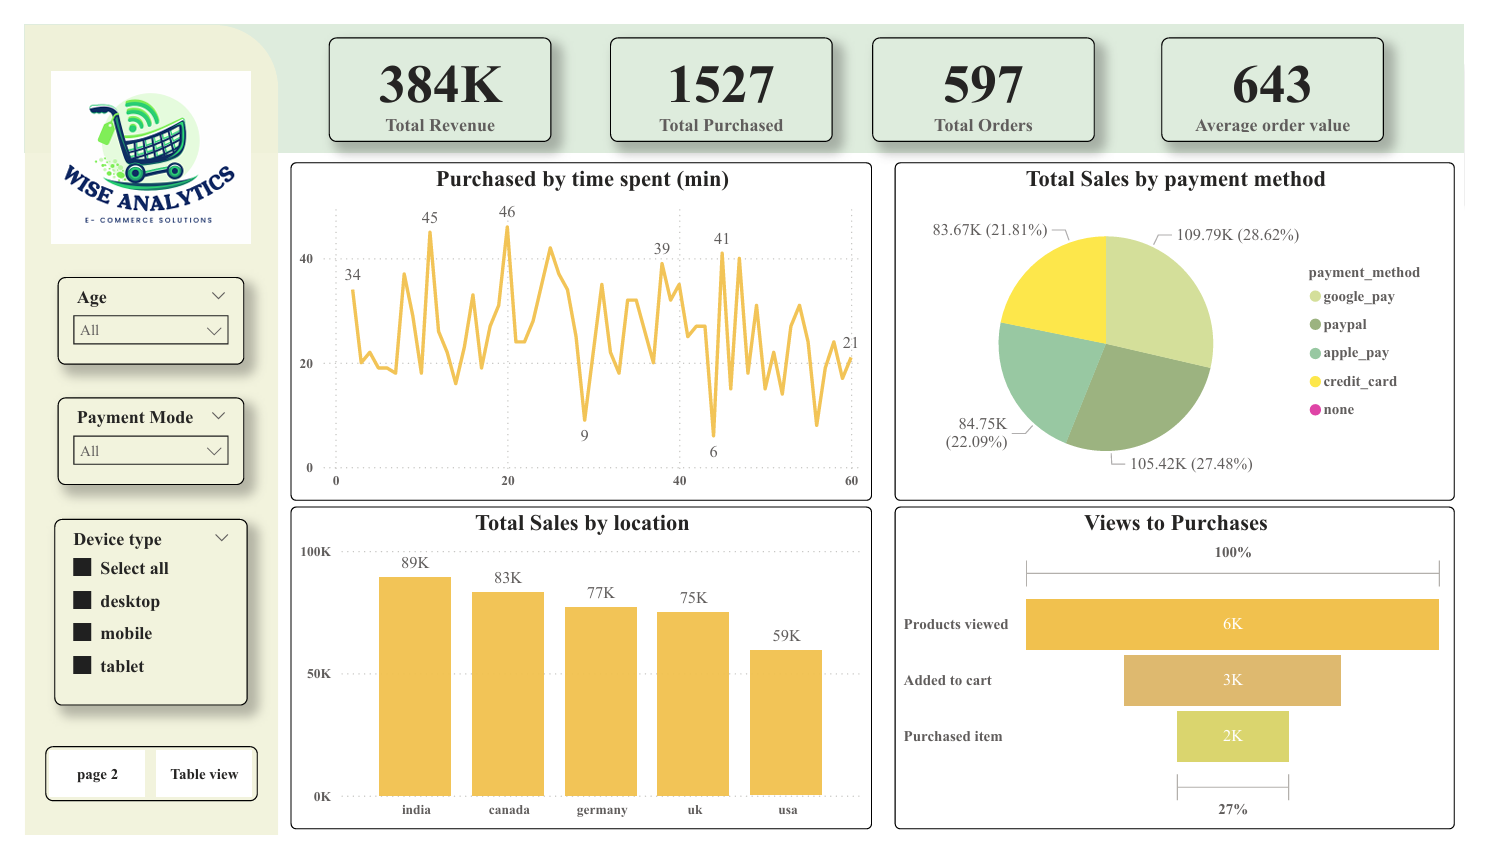

This screenshot's page, from the dashboard's own definition file:
{"tool":"powerbi","page":{"name":"page 1","canvas":[1280,720],"ordinal":0},"visuals":[{"type":"shape","box":[0,0,1280.3,113.9],"z":1000},{"type":"card","title":"Total ","fields":{"Values":["Sheet1.Total Sales"]},"box":[270.3,11,197.6,93.3],"z":2000},{"type":"card","fields":{"Values":["Sheet1.total_quantity_purchased"]},"box":[520.1,11,197.6,93.3],"z":3000},{"type":"card","fields":{"Values":["Sheet1.Total Orders"]},"box":[753.3,11,197.6,93.3],"z":4000},{"type":"card","fields":{"Values":["Sheet1.average_order_value"]},"box":[1010,11,197.6,93.3],"z":5000},{"type":"clusteredColumnChart","fields":{"Category":["Sheet1.location"],"Y":["Sheet1.Total Sales"]},"box":[236,428.1,517.3,286.8],"z":6000},{"type":"funnel","title":"Views to Purchases","fields":{"Y":["Sum(Sheet1.products_viewed)","Sum(Sheet1.added_to_cart)","Sum(Sheet1.purchased)"]},"box":[772.6,428.1,498.1,286.8],"z":7000},{"type":"pieChart","title":"Total Sales by payment method","fields":{"Category":["Sheet1.payment_method"],"Y":["Sheet1.Total Sales"]},"box":[772.6,122.1,498.1,300.5],"z":8000},{"type":"lineChart","title":"Purchased by time spent (min)","fields":{"Category":["Sheet1.time_spent (min)"],"Y":["Sum(Sheet1.purchased)"]},"box":[236,122.1,517.3,300.5],"z":10000},{"type":"shape","box":[0,0,225,720.4],"z":14500},{"type":"image","box":[19.2,26.1,186.6,182.5],"z":15000},{"type":"slicer","fields":{"Values":["Sheet1.age (groups)"]},"box":[28.8,223.7,166,78.2],"z":15500},{"type":"slicer","fields":{"Values":["Sheet1.payment_method"]},"box":[28.8,330.7,166,78.2],"z":16000},{"type":"slicer","fields":{"Values":["Sheet1.device_type"]},"box":[26.1,439.1,171.5,166],"z":16500},{"type":"pageNavigator","box":[17.8,640.8,189.4,49.4],"z":17000}]}

Visuals, with their boxes in screenshot pixels (x1, y1, x2, y2), scaled from the page's 1280x720 canvas onto the 1489x861 screenshot:
shape: bbox(0, 0, 1488, 136)
"Total " card: bbox(314, 13, 544, 125)
card - Sheet1.total_quantity_purchased: bbox(605, 13, 835, 125)
card - Sheet1.Total Orders: bbox(876, 13, 1106, 125)
card - Sheet1.average_order_value: bbox(1175, 13, 1405, 125)
clusteredColumnChart - Sheet1.location x Sheet1.Total Sales: bbox(275, 512, 876, 855)
"Views to Purchases" funnel: bbox(899, 512, 1478, 855)
"Total Sales by payment method" pieChart: bbox(899, 146, 1478, 505)
"Purchased by time spent (min)" lineChart: bbox(275, 146, 876, 505)
shape: bbox(0, 0, 262, 860)
image: bbox(22, 31, 239, 249)
slicer - Sheet1.age (groups): bbox(34, 268, 227, 361)
slicer - Sheet1.payment_method: bbox(34, 395, 227, 489)
slicer - Sheet1.device_type: bbox(30, 525, 230, 724)
pageNavigator: bbox(21, 766, 241, 825)
